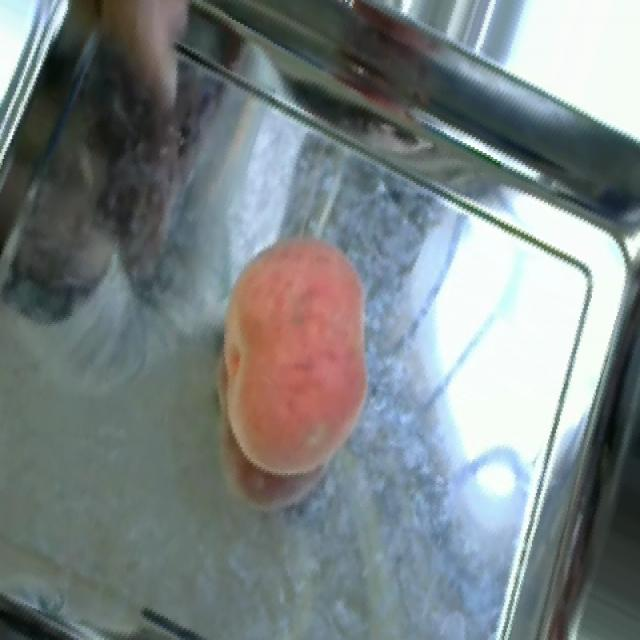Fruit: (180, 209, 397, 503)
